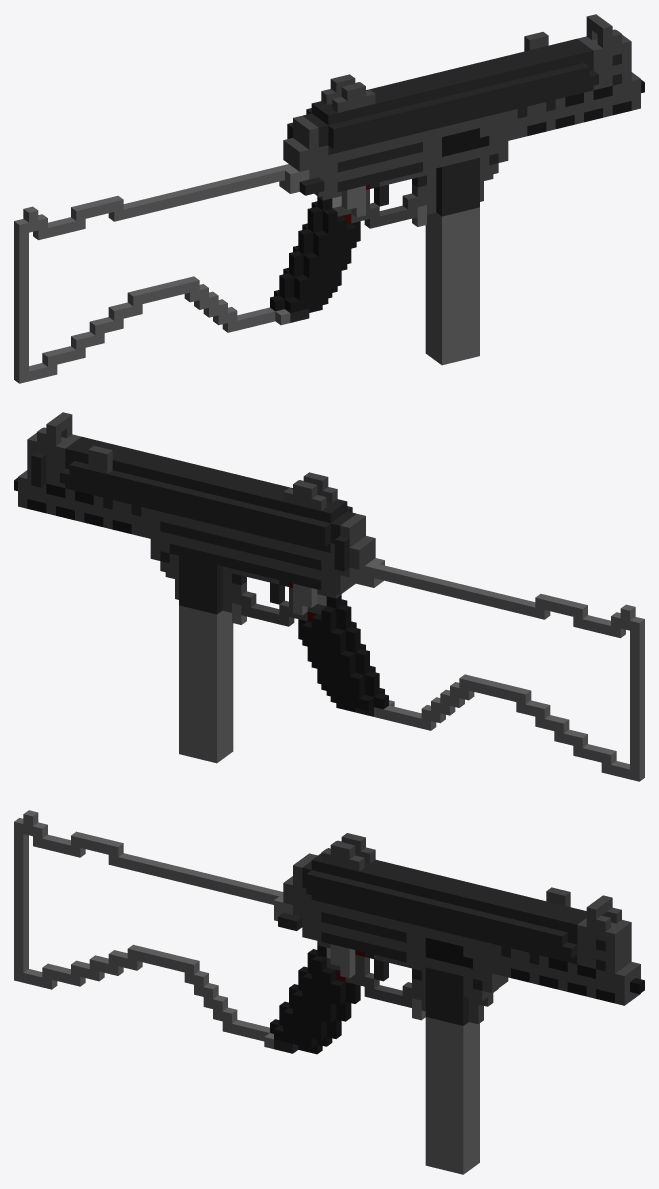
File: HK_MPK.obj
3 views of the same model, one above another, from view 1: azimuth 30°, elevation 25°; view 2: azimuth 150°, elevation 25°; view 3: azimuth 330°, elevation 25° (orthographic).
Bounding box in the file's own units: 6.6 × 3 × 0.5.
